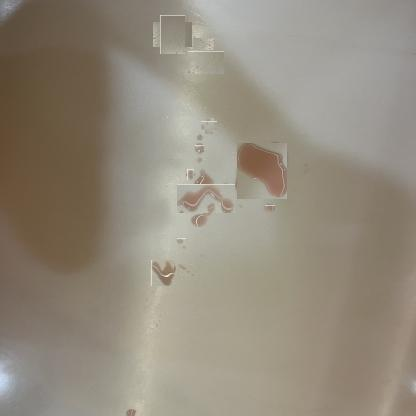liquid: (237, 143, 287, 199), (185, 177, 228, 220), (157, 18, 188, 50), (188, 51, 224, 74), (151, 261, 175, 286), (193, 38, 216, 50), (178, 264, 194, 276), (203, 120, 216, 132), (176, 238, 186, 249), (195, 144, 204, 153), (186, 170, 195, 179), (126, 410, 138, 416), (265, 205, 275, 212), (192, 201, 202, 208), (197, 133, 203, 141), (223, 182, 229, 186), (196, 158, 202, 162)
